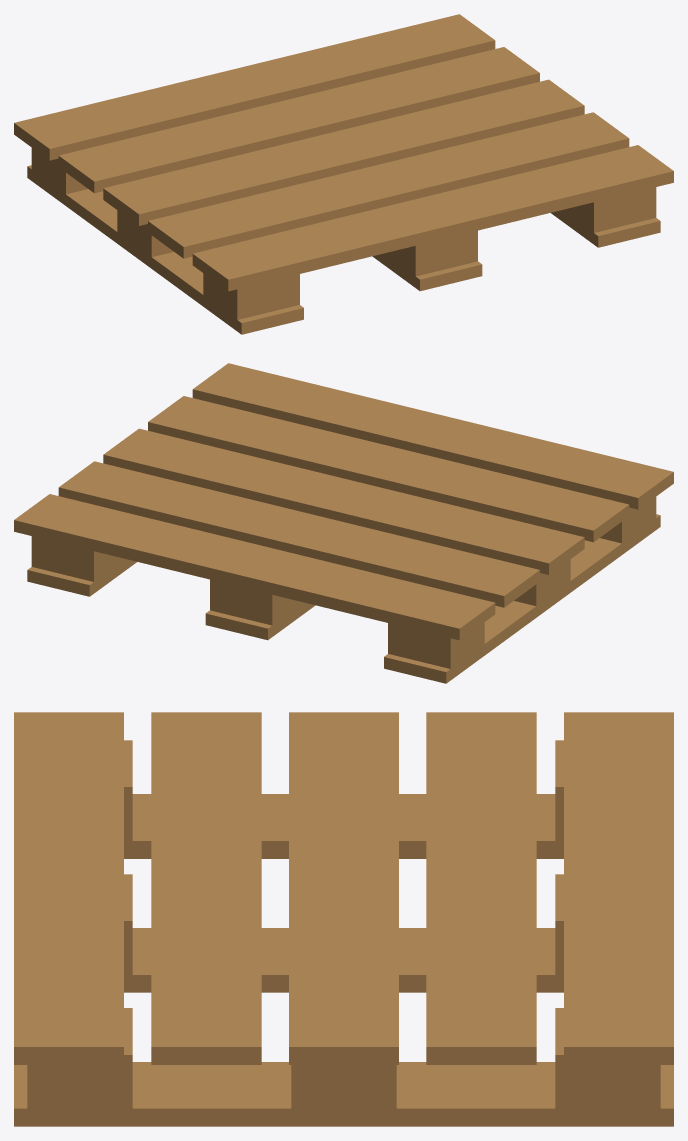
Rendered from pallet.glb.
3 renders of one model, top to bottom at view 1: azimuth 30°, elevation 25°; view 2: azimuth 150°, elevation 25°; view 3: azimuth 270°, elevation 25°, orthographic. The views are drawn at different scales.
Parts seen in each view (by area): view 1: TopDeckBoards5, TopDeckBoards1, TopDeckBoards2, TopDeckBoards3, TopDeckBoards4, BottomRunners1, SupportBlocks3, SupportBlocks9, SupportBlocks6, BottomRunners2, BottomRunners3, SupportBlocks1 (+1 smaller); view 2: TopDeckBoards1, TopDeckBoards5, TopDeckBoards2, TopDeckBoards3, TopDeckBoards4, BottomRunners1, SupportBlocks1, SupportBlocks7, SupportBlocks4, BottomRunners2, BottomRunners3, SupportBlocks3 (+1 smaller); view 3: TopDeckBoards2, TopDeckBoards4, TopDeckBoards1, TopDeckBoards3, TopDeckBoards5, BottomRunners3, BottomRunners1, BottomRunners2, SupportBlocks7, SupportBlocks9, SupportBlocks8, SupportBlocks1 (+3 smaller).
Part boxes in pixels (x1,y1,x2,y2): TopDeckBoards5: [192, 145, 673, 291]; TopDeckBoards1: [14, 14, 495, 160]; TopDeckBoards2: [58, 47, 539, 193]; TopDeckBoards3: [103, 79, 584, 225]; TopDeckBoards4: [148, 112, 629, 258]; BottomRunners1: [27, 165, 303, 334]; SupportBlocks3: [203, 273, 299, 319]; SupportBlocks9: [563, 187, 656, 232]; SupportBlocks6: [384, 230, 477, 276]; BottomRunners2: [372, 253, 482, 291]; BottomRunners3: [551, 210, 660, 247]; SupportBlocks1: [31, 148, 87, 194]; TopDeckBoards1: [14, 494, 495, 640]; TopDeckBoards5: [192, 363, 673, 509]; TopDeckBoards2: [58, 461, 539, 607]; TopDeckBoards3: [103, 428, 584, 574]; TopDeckBoards4: [148, 396, 629, 542]; BottomRunners1: [384, 514, 660, 683]; SupportBlocks1: [388, 622, 484, 668]; SupportBlocks7: [31, 536, 124, 581]; SupportBlocks4: [210, 579, 303, 625]; BottomRunners2: [205, 602, 315, 640]; BottomRunners3: [27, 559, 136, 596]; SupportBlocks3: [600, 497, 656, 543]; TopDeckBoards2: [426, 712, 536, 1064]; TopDeckBoards4: [151, 712, 261, 1064]; TopDeckBoards1: [564, 712, 673, 1064]; TopDeckBoards3: [289, 712, 398, 1064]; TopDeckBoards5: [14, 712, 123, 1064]; BottomRunners3: [14, 1062, 673, 1126]; BottomRunners1: [124, 794, 563, 858]; BottomRunners2: [124, 928, 563, 992]; SupportBlocks7: [555, 1008, 660, 1108]; SupportBlocks9: [27, 1008, 132, 1108]; SupportBlocks8: [291, 1065, 396, 1108]; SupportBlocks1: [555, 740, 563, 840].
Size of the model in its own units: 1.2 by 0.15 by 1.
